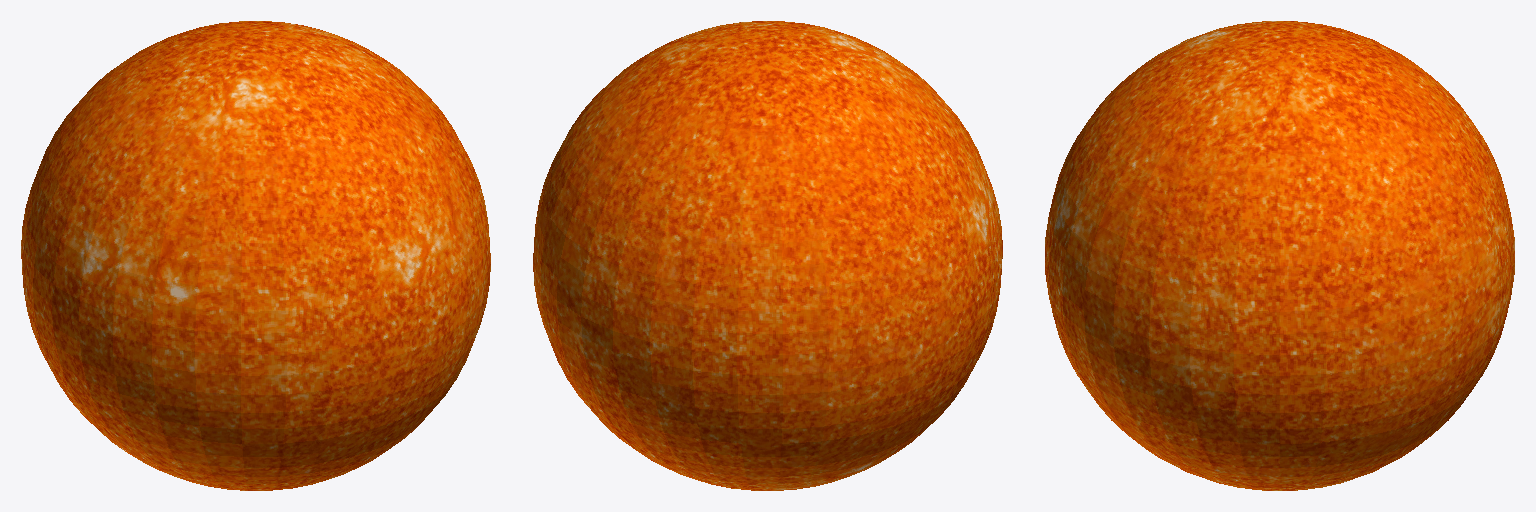
The picture shows the model from 3 angles: view 1: azimuth 30°, elevation 25°; view 2: azimuth 150°, elevation 25°; view 3: azimuth 270°, elevation 25°; orthographic projection.
Visible parts, largest first — view 1: Plane; view 2: Plane; view 3: Plane.
Boxes of the visible parts, x1=… form: Plane: x1=21, y1=21, x2=490, y2=490; Plane: x1=533, y1=21, x2=1002, y2=490; Plane: x1=1045, y1=21, x2=1514, y2=490.
Bounding box in the file's own units: 2 × 2 × 2.
1 materials, 1 textured.